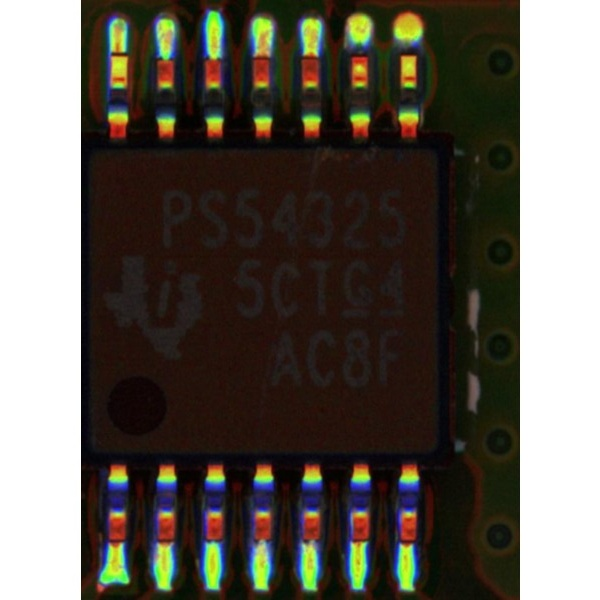Bad_podu: (110, 528, 121, 562), (350, 534, 364, 559), (109, 44, 125, 61), (257, 46, 266, 67)
